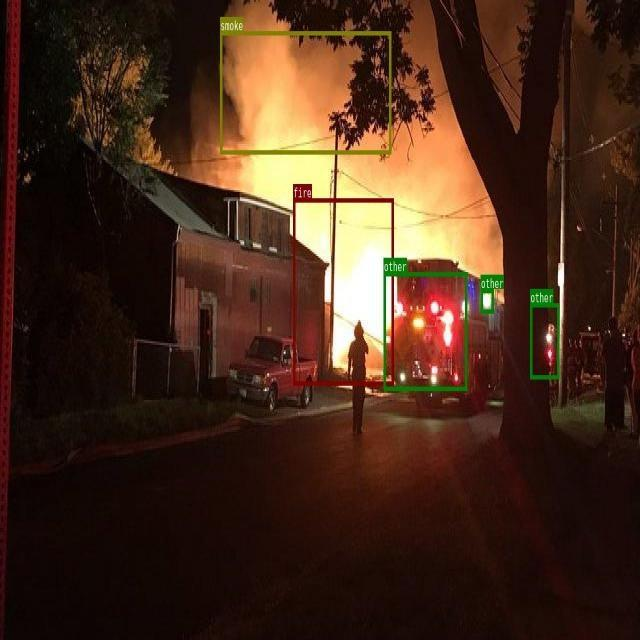fire: (293, 198, 393, 385)
smoke: (220, 31, 391, 153)
